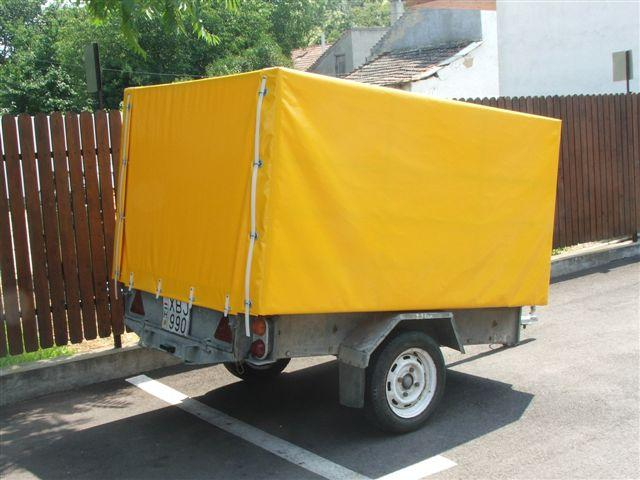trailer: (112, 65, 564, 368)
